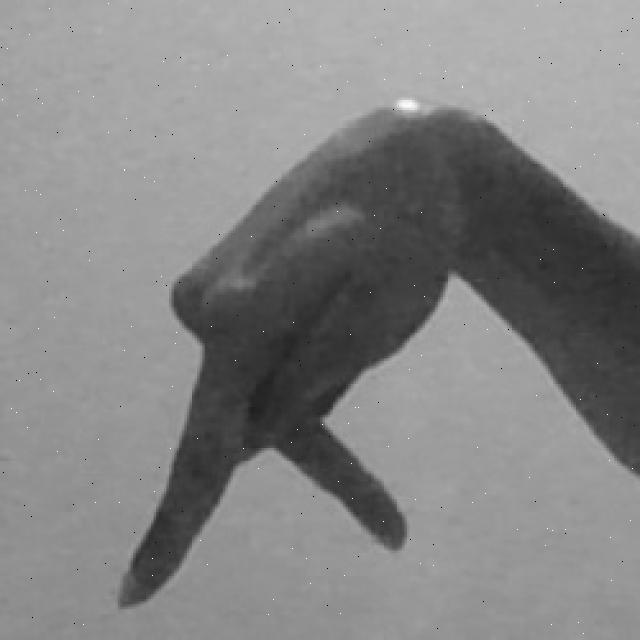P: (106, 89, 640, 612)
